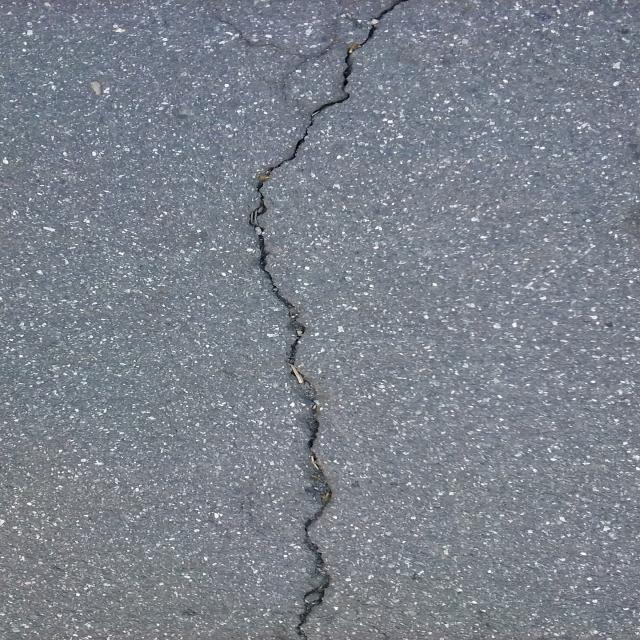Longitudial: (217, 0, 425, 640)
